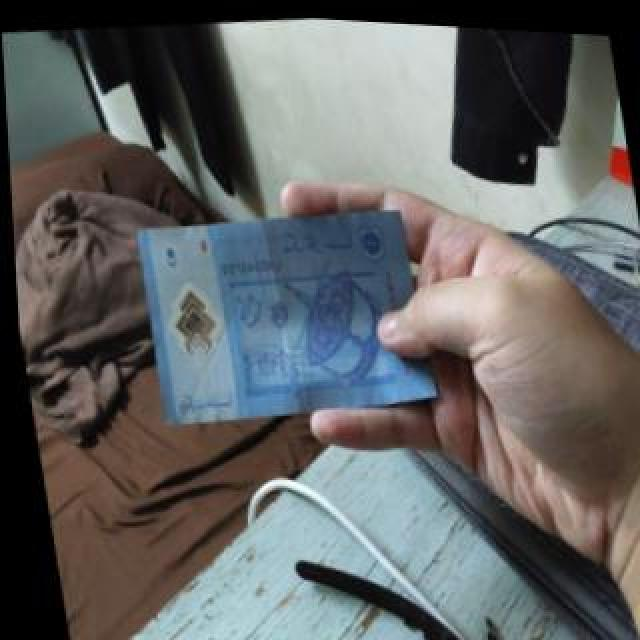1 Ringgit: (125, 188, 442, 430)
